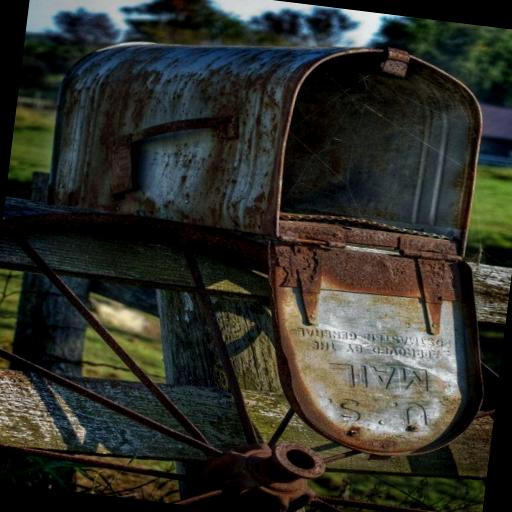corrosion: (242, 31, 489, 261), (267, 220, 461, 453), (10, 232, 203, 444), (3, 194, 276, 285), (0, 348, 215, 461), (62, 66, 160, 215), (100, 113, 243, 195), (182, 445, 325, 512), (163, 137, 242, 230), (188, 64, 284, 120), (0, 445, 154, 477), (321, 497, 429, 512)
